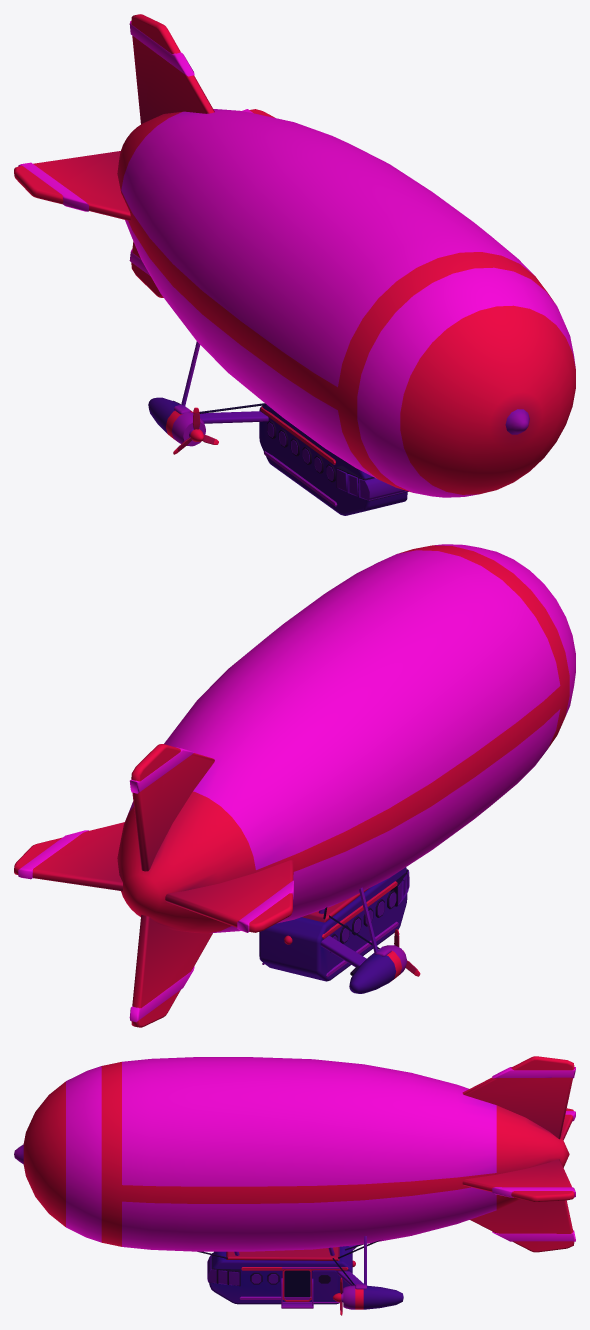
File: vehicles.glb
3 views of the same model, one above another, from view 1: azimuth 30°, elevation 25°; view 2: azimuth 150°, elevation 25°; view 3: azimuth 270°, elevation 25° (orthographic). The views are drawn at different scales.
Parts seen in each view (by area): view 1: Airship; view 2: Airship; view 3: Airship.
Boxes of the visible parts, left/top/right/bottom form: Airship: left=14, top=14, right=575, bottom=515; Airship: left=14, top=544, right=575, bottom=1027; Airship: left=14, top=1056, right=575, bottom=1309.
Bounding box in the file's own units: 12.64 × 15.64 × 33.02.
